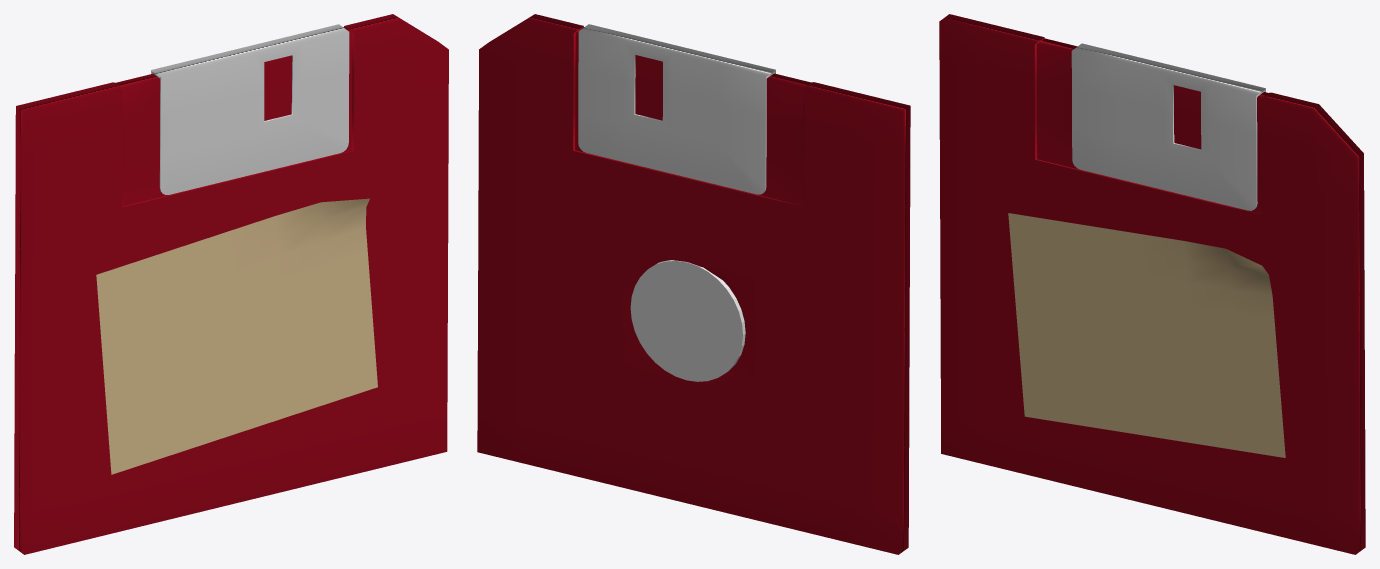
Rendered from floppy.gltf.
3 views of the same model, side by side, from view 1: azimuth 30°, elevation 25°; view 2: azimuth 150°, elevation 25°; view 3: azimuth 330°, elevation 25° (orthographic). The views are drawn at different scales.
Visible parts, largest first — view 1: Cube, Plane, Cube.001; view 2: Cube, Cube.001, Cylinder; view 3: Cube, Plane, Cube.001.
Boxes of the visible parts, x1,y1,x2,y2 form: Cube: (14,14,448,554); Plane: (96,198,377,474); Cube.001: (151,24,349,194); Cube: (477,14,910,554); Cube.001: (578,24,775,194); Cylinder: (630,260,745,381); Cube: (939,14,1365,554); Plane: (1008,213,1285,457); Cube.001: (1071,43,1265,210).
Size of the model in its own units: 2 by 2.01 by 0.1592.
